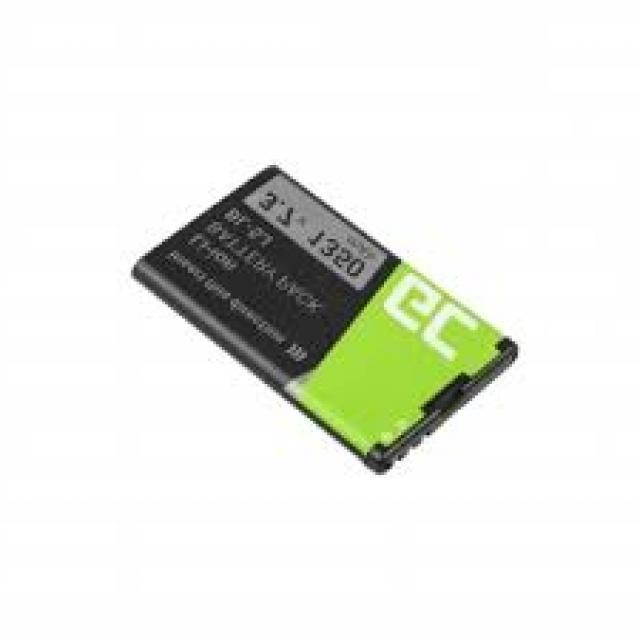battery: (133, 162, 518, 476)
